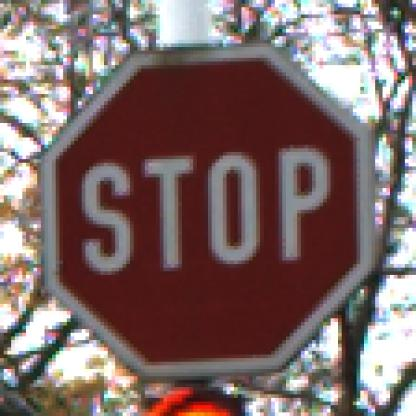stop: (42, 44, 378, 377)
